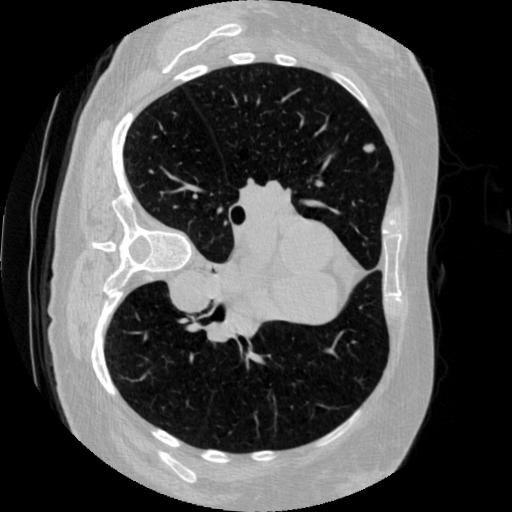nodule: (363, 140, 378, 155)
